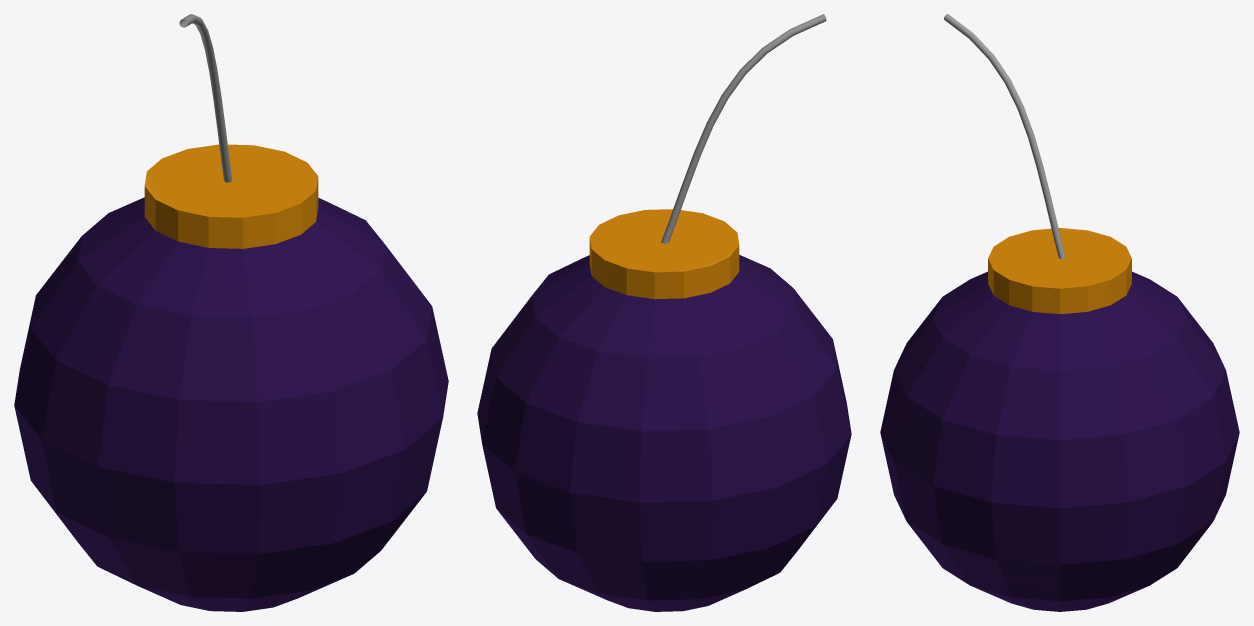
The model's file is bomb.obj.
The picture shows the model from 3 angles, left to right: view 1: azimuth 30°, elevation 25°; view 2: azimuth 150°, elevation 25°; view 3: azimuth 270°, elevation 25°; orthographic projection. The views are drawn at different scales.
Visible parts, largest first — view 1: bomb; view 2: bomb; view 3: bomb.
Part boxes in pixels (<box>): bomb: <box>14,14,448,611</box>; bomb: <box>477,14,851,611</box>; bomb: <box>880,14,1239,611</box>.
Bounding box in the file's own units: 2 × 3.28 × 2.
1 material, 1 textured.
